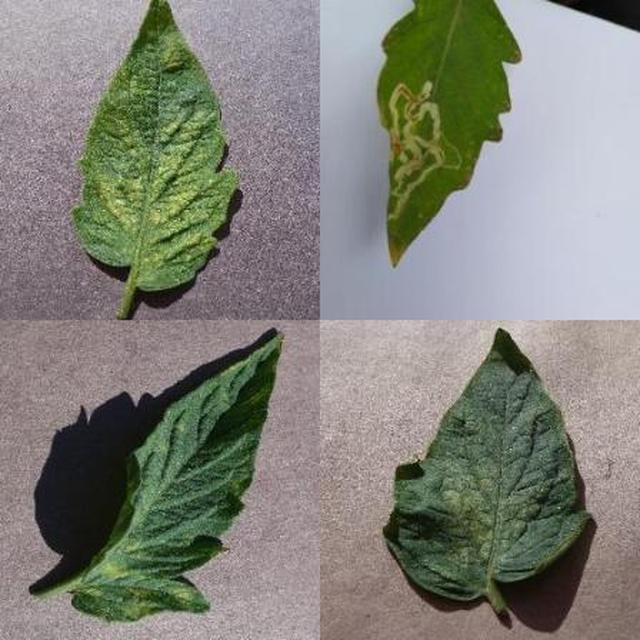Spider Mites Leaf: (209, 193, 640, 640)
